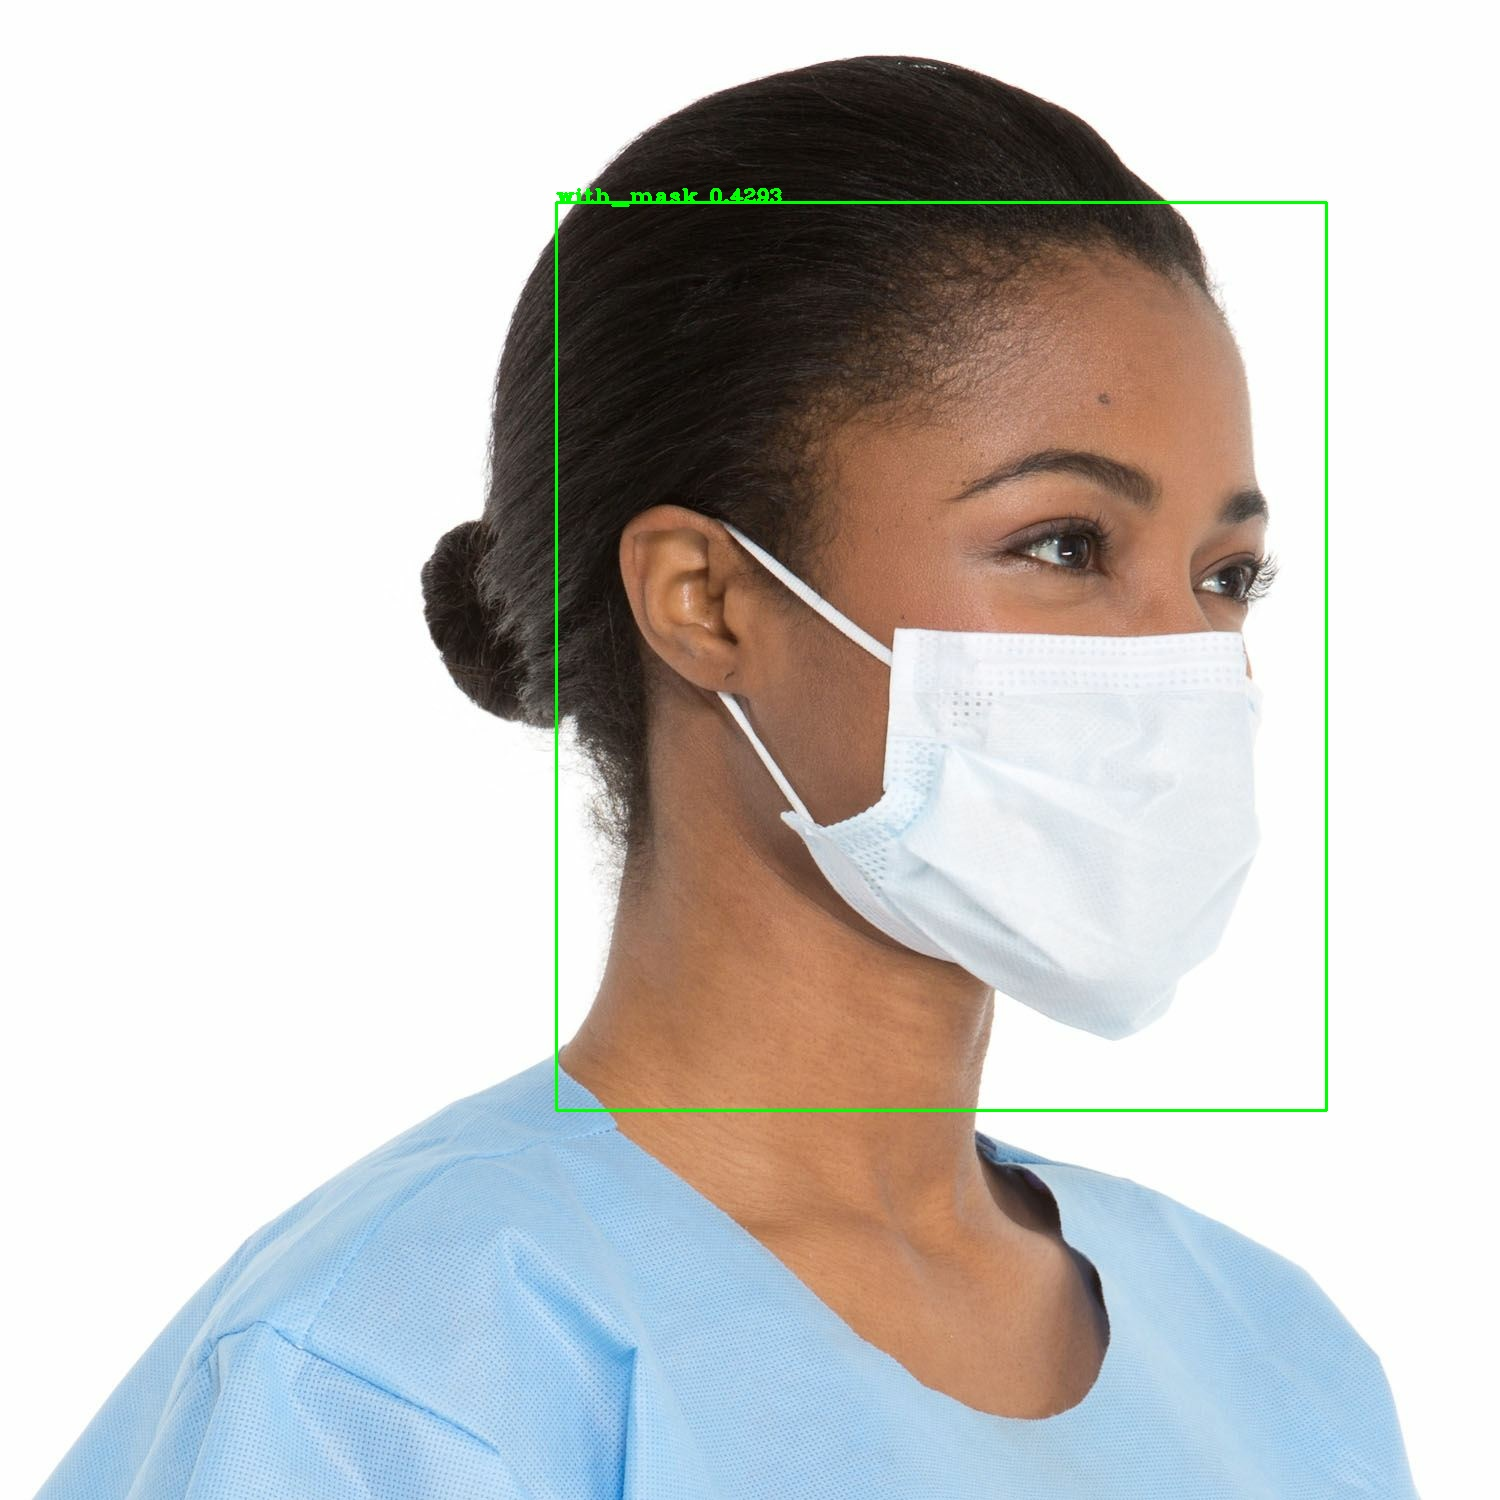with_mask: (536, 226, 1296, 1086)
